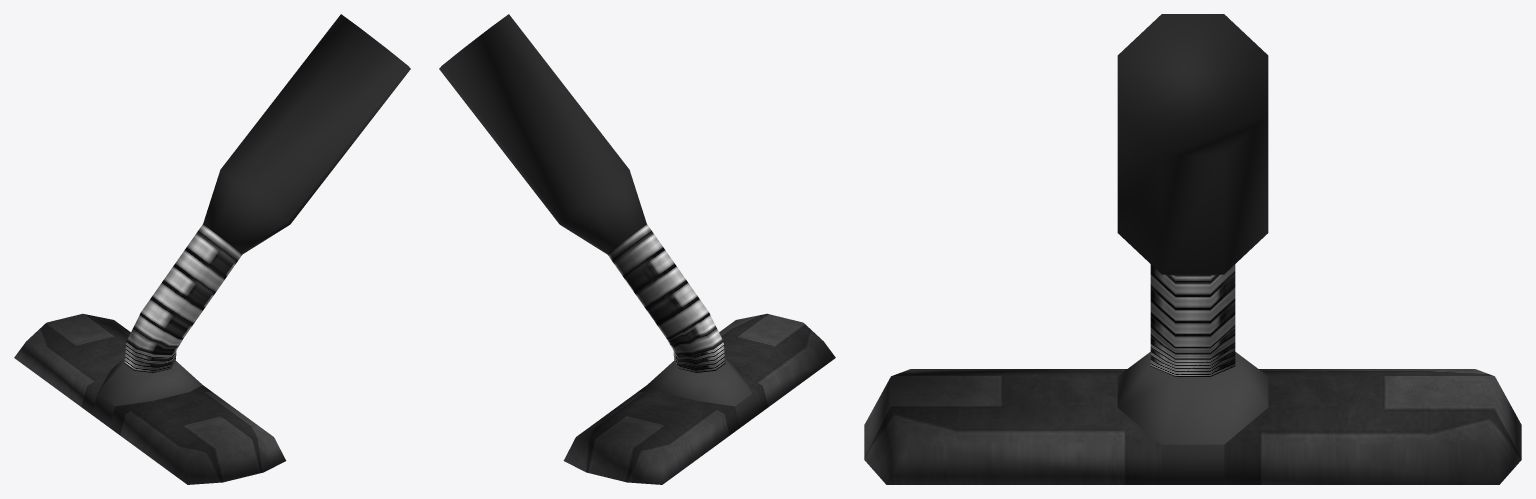
Rendered from ZGearLeft.fbx.
The picture shows the model from 3 angles, left to right: view 1: azimuth 30°, elevation 25°; view 2: azimuth 150°, elevation 25°; view 3: azimuth 270°, elevation 25°; orthographic projection. The views are drawn at different scales.
Parts seen in each view (by area): view 1: ZGearLeft; view 2: ZGearLeft; view 3: ZGearLeft.
Part boxes in pixels (x1=…): ZGearLeft: x1=14, y1=14, x2=410, y2=484; ZGearLeft: x1=439, y1=14, x2=835, y2=484; ZGearLeft: x1=864, y1=14, x2=1521, y2=484.
Size of the model in its own units: 45.2 by 48.76 by 48.37.
